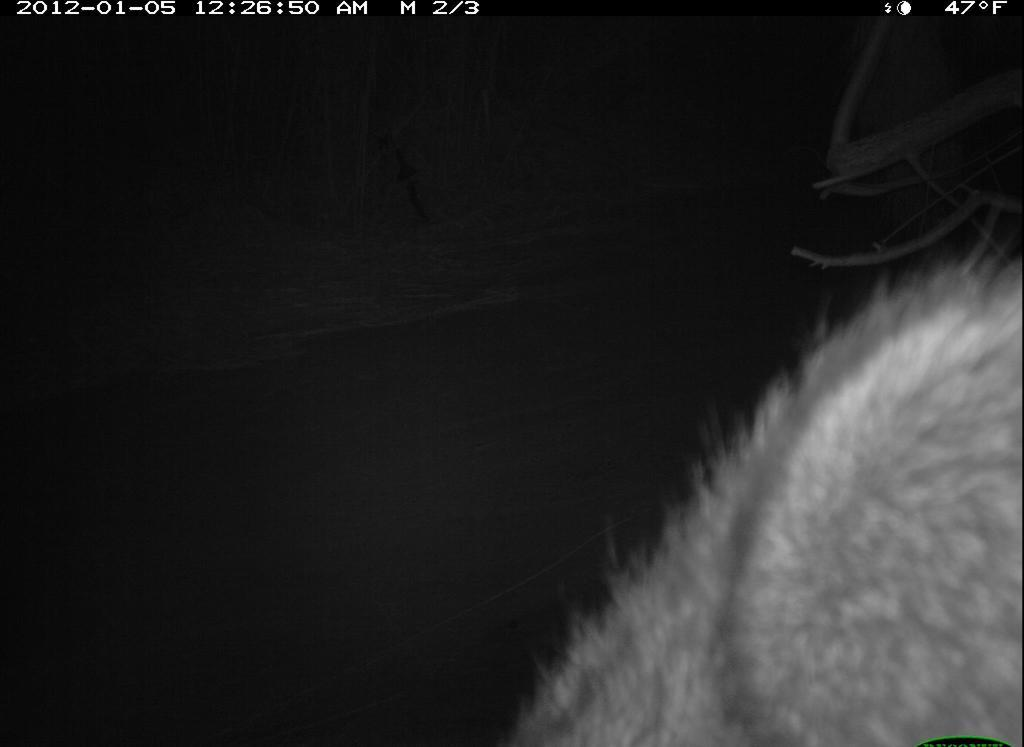raccoon: (488, 236, 1021, 747)
